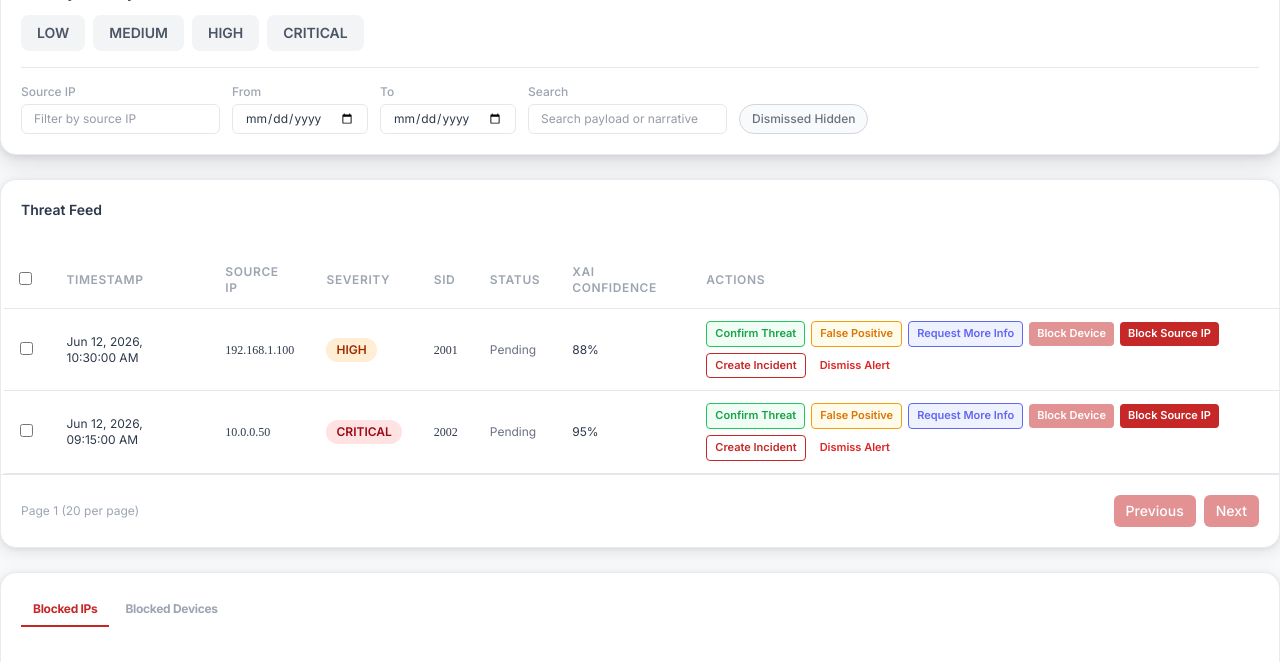
M8: Security Monitoring page — bulk actions + S3 (Task 12) › bulk action bar appears when a row checkbox is clicked
The width and height of the screenshot is (1280, 662).
(page scrolled)
Expected: the text "192.168.1.100" is shown, [209,308,310,391]
Click the checkbox next to "Jun 12, 2026, 10:30:00 AM": (26, 348) [20,342,33,355]
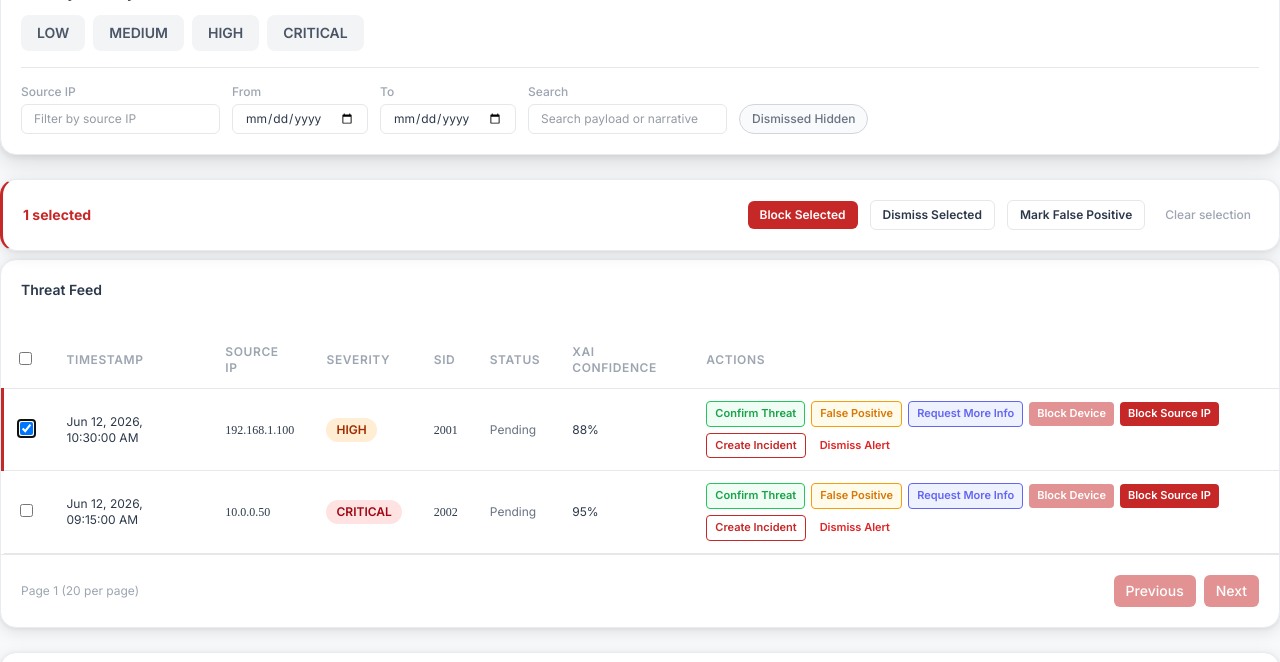
Expected: the element with test id "bulk-action-bar" is shown, [0,179,1279,251]
Expected: the text "1 selected" is shown, [23,205,91,225]
Expected: the button "Block Selected" is shown, [748,201,858,229]
